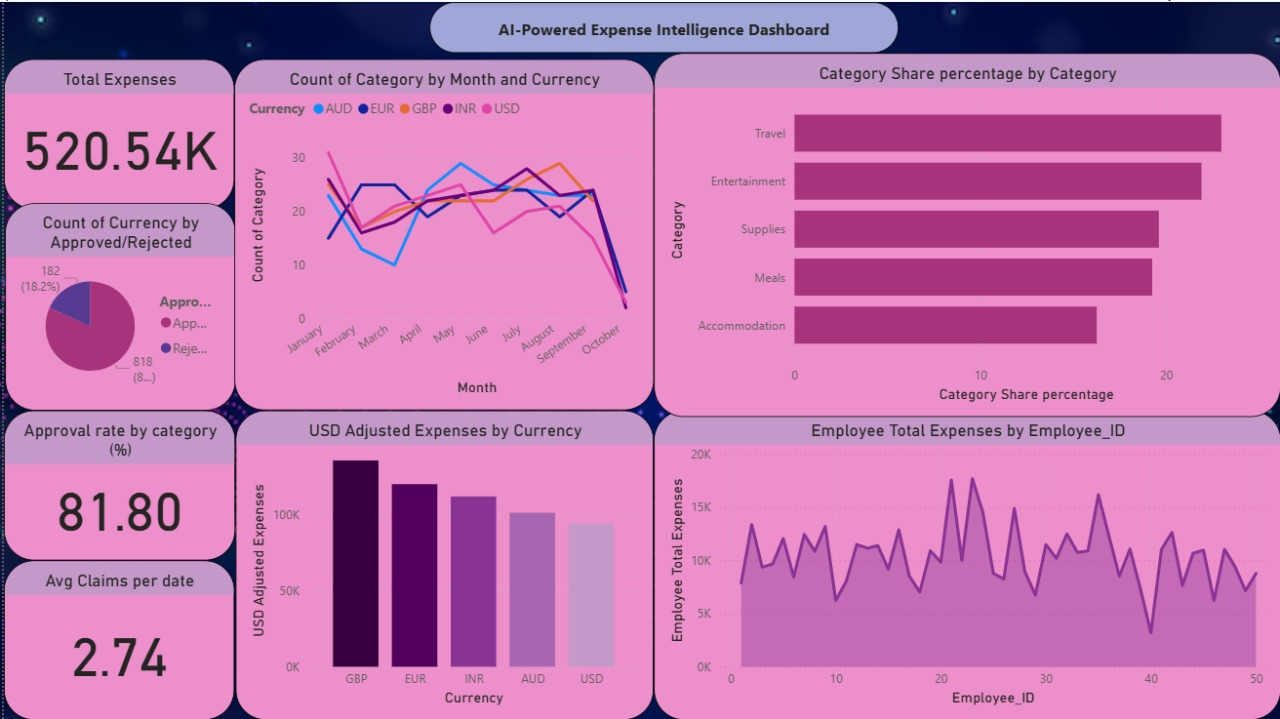

What the dashboard file says about the page in this screenshot:
{"tool":"powerbi","page":{"name":"Page 1","canvas":[1280,720],"ordinal":0},"visuals":[{"type":"card","title":"Total Expenses","fields":{"Values":["odoo.Total Expenses"]},"box":[0,57.5,231.1,150.4],"z":0},{"type":"pieChart","fields":{"Category":["odoo.Approved/Rejected"],"Y":["CountNonNull(odoo.Currency)"]},"box":[1.2,201.8,231.1,207.9],"z":1000},{"type":"lineChart","fields":{"Y":["CountNonNull(odoo.Category)"],"Series":["odoo.Currency"],"Category":["odoo.Date.Variation.Date Hierarchy.Month"]},"box":[231.1,57.5,420.7,352.2],"z":2000},{"type":"card","title":"Approval rate by category (%)","fields":{"Values":["odoo.Approval Rate by Category Employee %"]},"box":[0,409.6,232.3,150.4],"z":3000},{"type":"card","title":"Avg Claims per date","fields":{"Values":["odoo.Avg Claims per Month"]},"box":[0,560.1,231.1,160.2],"z":4000},{"type":"columnChart","fields":{"Category":["odoo.Currency"],"Y":["odoo.USD Adjusted Expenses"]},"box":[232.3,409.6,419.4,310.6],"z":5000},{"type":"areaChart","fields":{"Category":["odoo.Employee_ID"],"Y":["odoo.Employee Total Expenses"]},"box":[651.8,409.6,628.5,310.6],"z":6000},{"type":"barChart","title":"Category Share percentage by Category","fields":{"Y":["odoo.Category Share %"],"Category":["odoo.Category"]},"box":[651.8,51.4,628.5,364.4],"z":7000},{"type":"textbox","box":[426.8,0,470.8,51.4],"z":8000}]}

Visuals, with their boxes in screenshot pixels (x1, y1, x2, y2), scaled from the page's 1280x720 canvas onto the 1280x719 screenshot:
"Total Expenses" card: (x1=0, y1=57, x2=231, y2=208)
pieChart - odoo.Approved/Rejected x CountNonNull(odoo.Currency): (x1=1, y1=202, x2=232, y2=409)
lineChart - CountNonNull(odoo.Category) x odoo.Currency: (x1=231, y1=57, x2=652, y2=409)
"Approval rate by category (%)" card: (x1=0, y1=409, x2=232, y2=559)
"Avg Claims per date" card: (x1=0, y1=559, x2=231, y2=718)
columnChart - odoo.Currency x odoo.USD Adjusted Expenses: (x1=232, y1=409, x2=652, y2=718)
areaChart - odoo.Employee_ID x odoo.Employee Total Expenses: (x1=652, y1=409, x2=1279, y2=718)
"Category Share percentage by Category" barChart: (x1=652, y1=51, x2=1279, y2=415)
textbox: (x1=427, y1=0, x2=898, y2=51)
